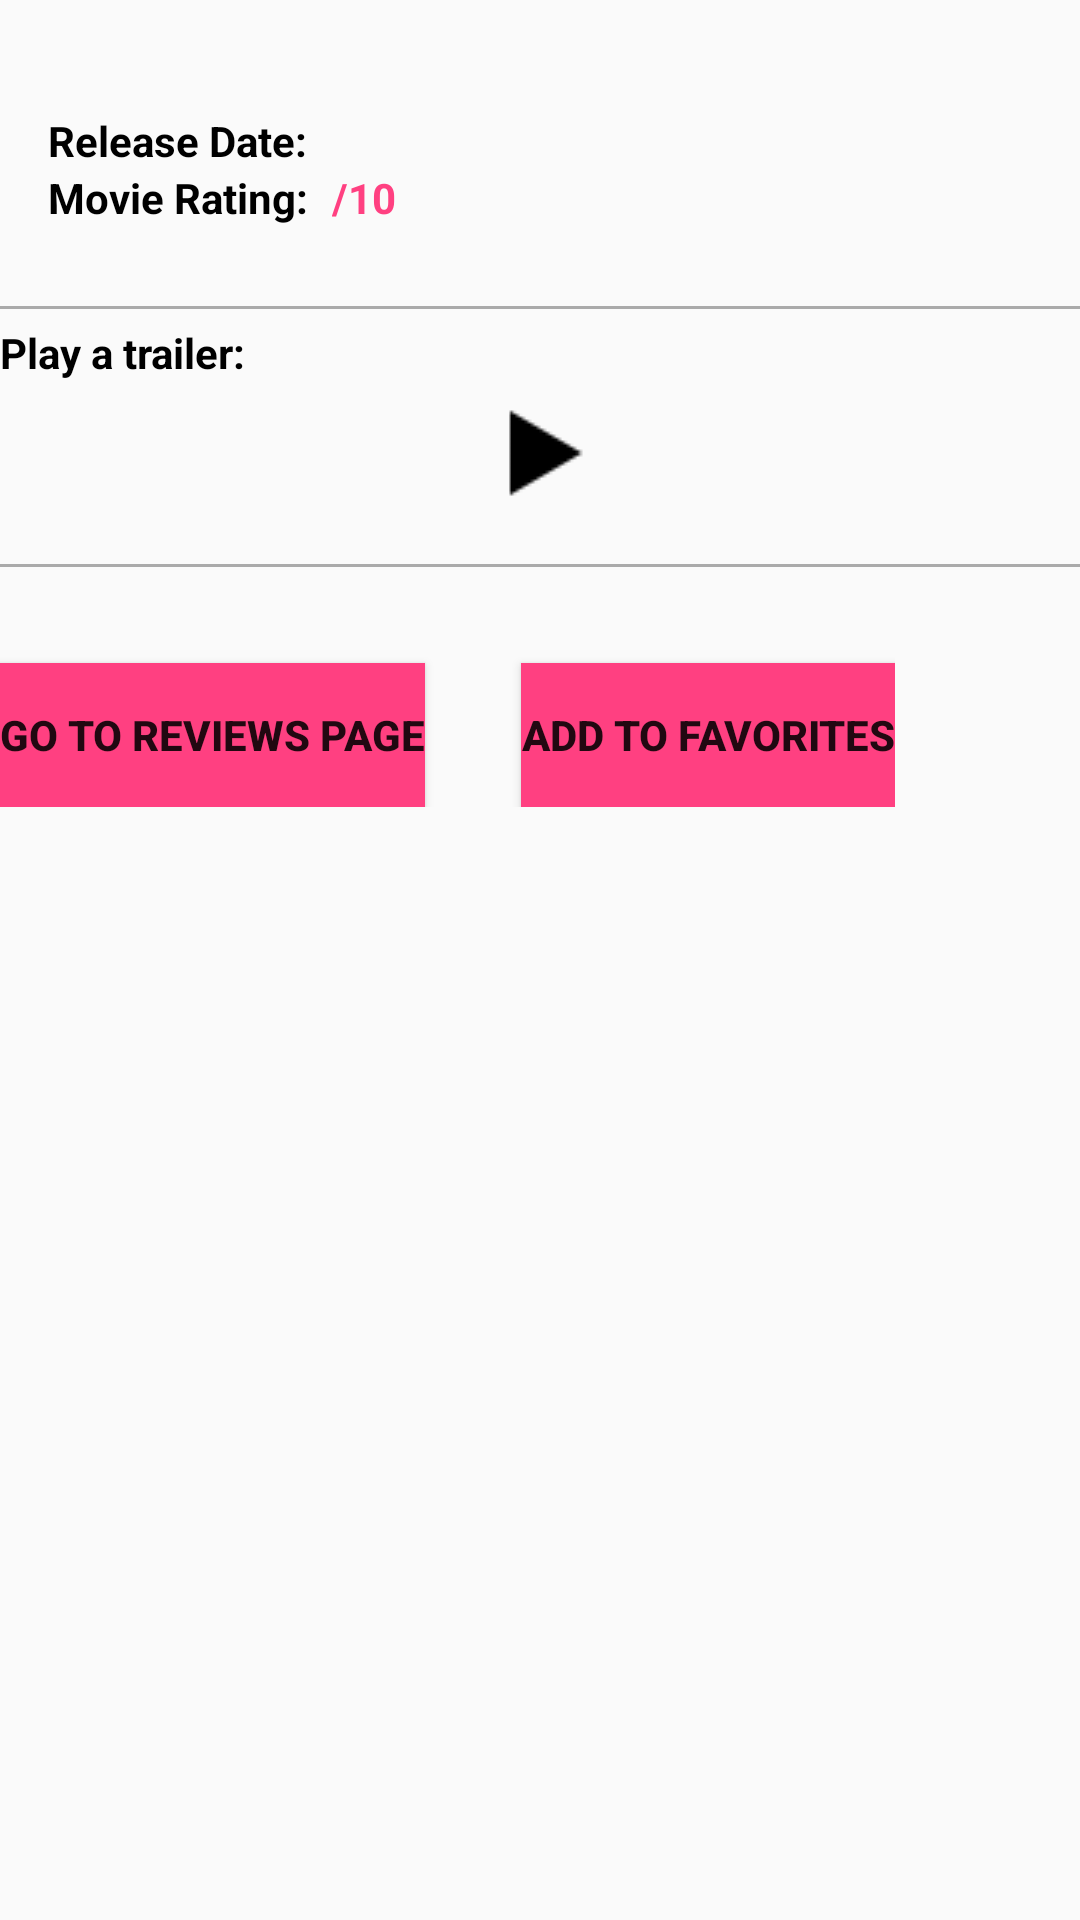

Screen size 1080px×1920px. Icon name, then its box in pixels as (x1, y1, x2, y2):
play: (509, 410, 582, 496)
